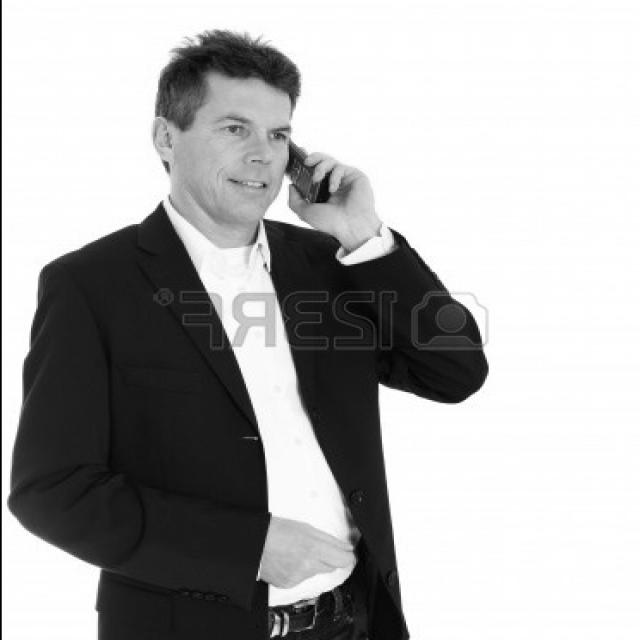phone: (249, 107, 382, 242)
